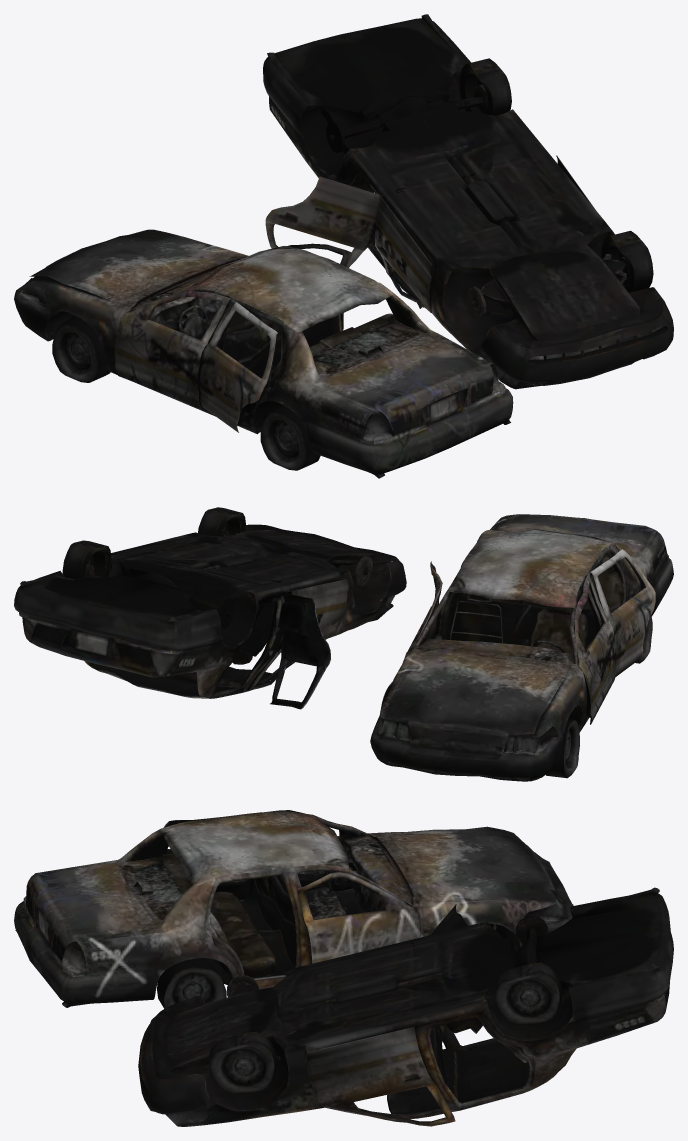
The model's file is car_police.glb.
3 renders of one model, top to bottom at view 1: azimuth 30°, elevation 25°; view 2: azimuth 150°, elevation 25°; view 3: azimuth 270°, elevation 25°, orthographic. The views are drawn at different scales.
Visible parts, largest first — view 1: Object005_Material #99_0, Object004_Material #98_0; view 2: Object004_Material #98_0, Object005_Material #99_0; view 3: Object005_Material #99_0, Object004_Material #98_0.
Boxes of the visible parts, left/top/right/bottom form: Object005_Material #99_0: left=263, top=14, right=673, bottom=389; Object004_Material #98_0: left=14, top=229, right=513, bottom=478; Object004_Material #98_0: left=370, top=514, right=673, bottom=781; Object005_Material #99_0: left=14, top=507, right=406, bottom=709; Object005_Material #99_0: left=138, top=887, right=673, bottom=1126; Object004_Material #98_0: left=14, top=810, right=573, bottom=1008.
Size of the model in its own units: 601 by 197 by 690.
2 materials, 2 textured.
